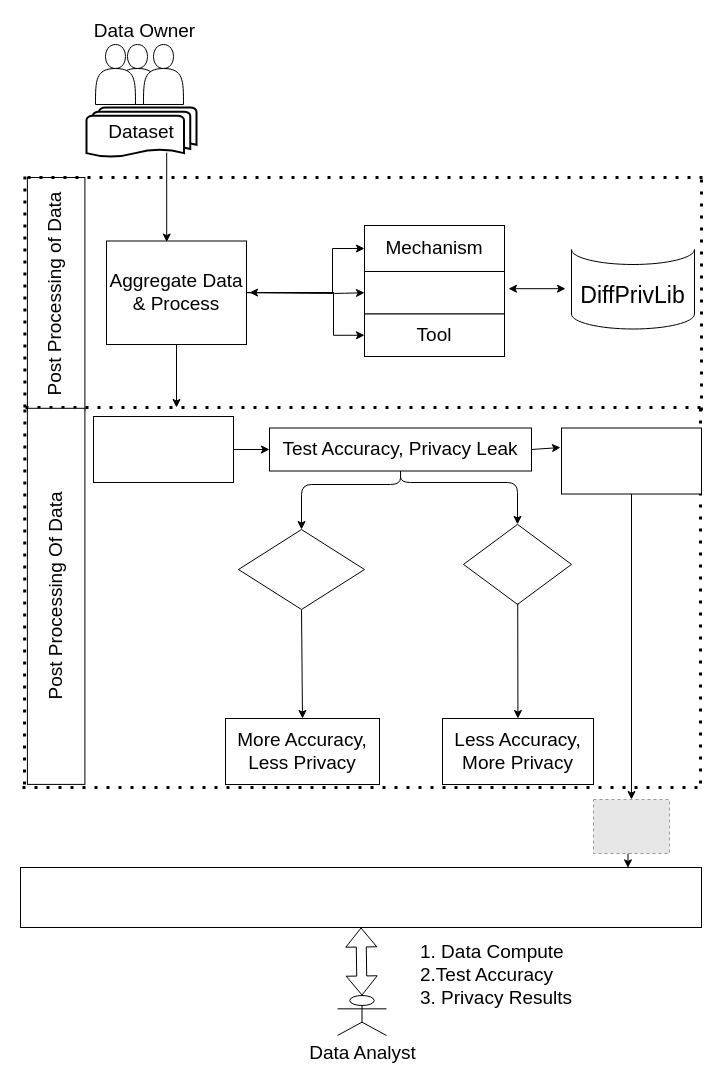
This 722x1082 diagram has some shape labels left out. Grey dashed boxes stand in for pictures. The centre of each missing label's shape, as x and y in pixels:
Analyse & Sanitise Data: (x=163, y=449)
Differential Privacy Web Application Front End: (x=361, y=897)
Epsilon = Infinity (Best Fit): (x=631, y=460)
Epsilon<1: (x=517, y=563)
Epsilon>1: (x=301, y=569)
Model: (x=434, y=292)
